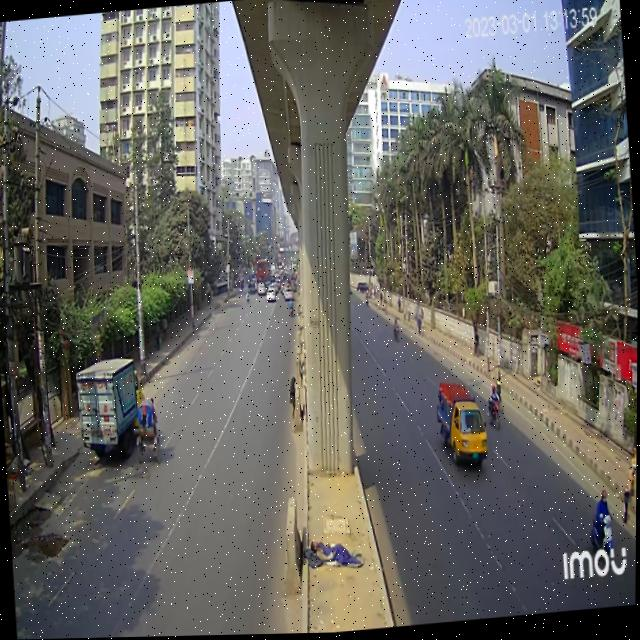rikshaw: (132, 395, 164, 469)
